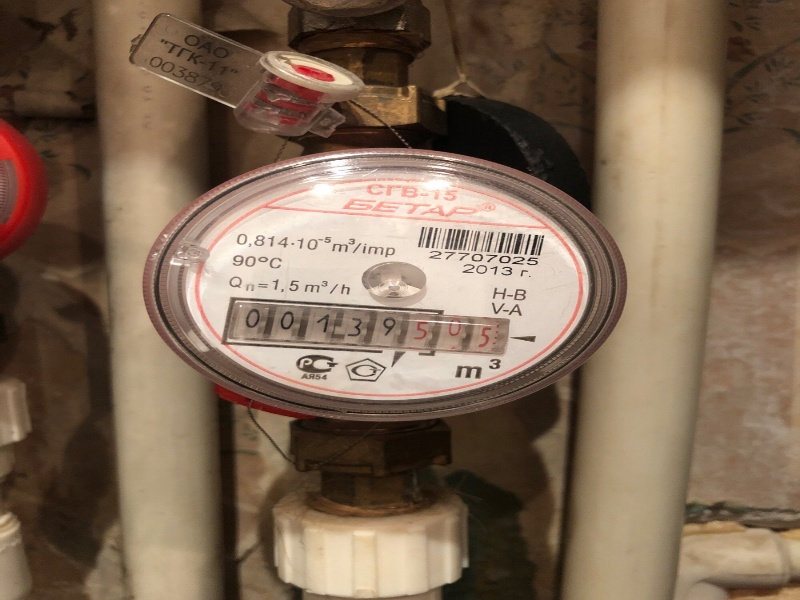dial: (230, 312, 498, 358)
